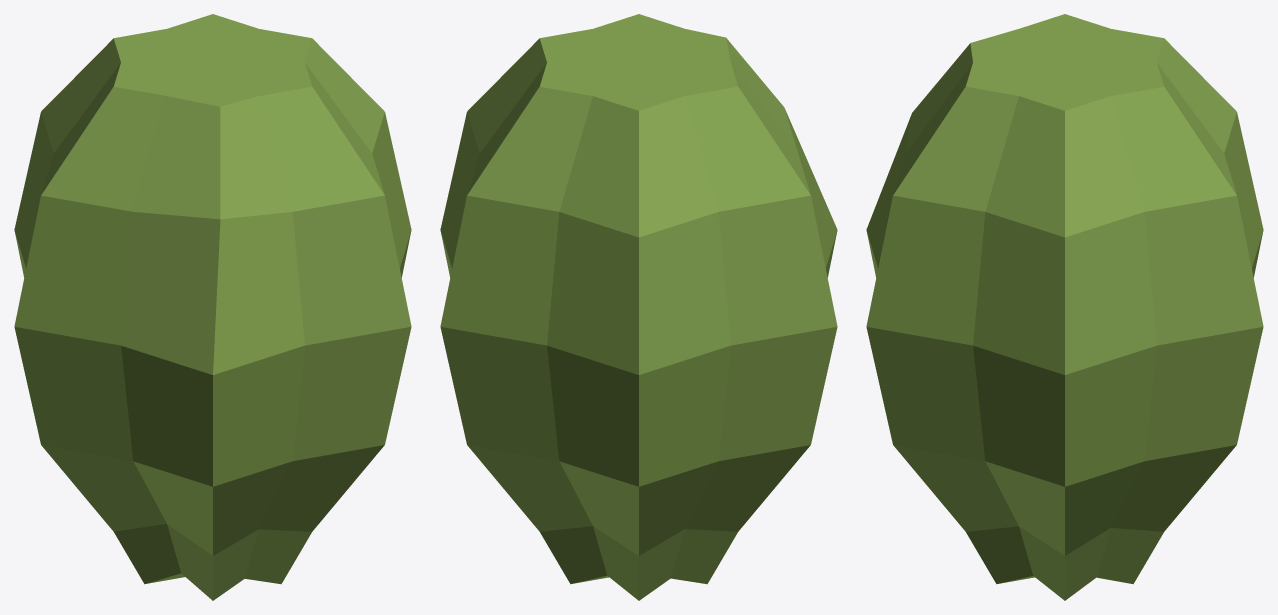
The model's file is cactus_2.fbx.
3 renders of one model, left to right at view 1: azimuth 30°, elevation 25°; view 2: azimuth 150°, elevation 25°; view 3: azimuth 270°, elevation 25°, orthographic.
Parts seen in each view (by area): view 1: cactus_2; view 2: cactus_2; view 3: cactus_2.
Part boxes in pixels (x1,y1,x2,y2): cactus_2: [14, 14, 411, 600]; cactus_2: [440, 14, 837, 600]; cactus_2: [866, 14, 1263, 600].
Bounding box in the file's own units: 78.46 × 96.22 × 67.95.
